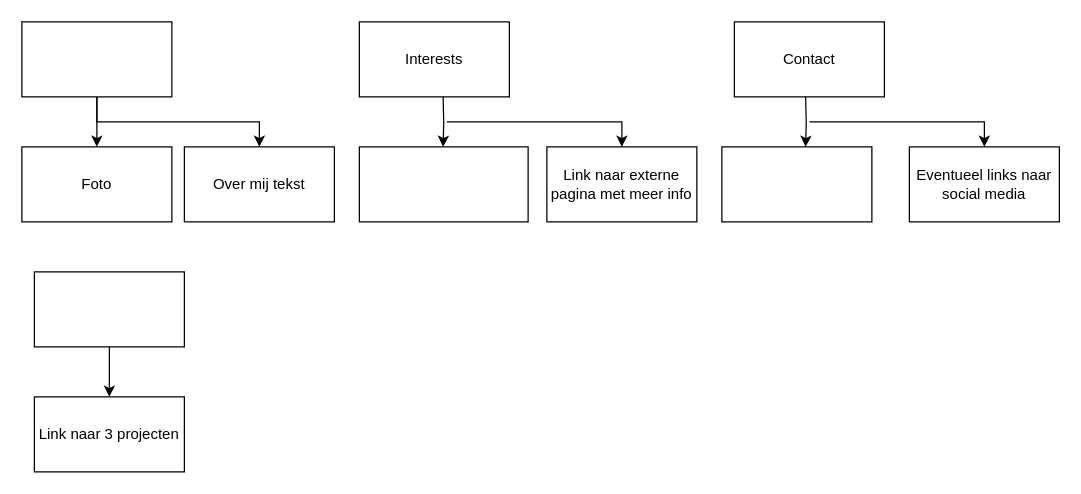
Image size: 1081x494. Some labels were removed from this diagram. The box of each missing label's shape, as (x1, y1, x2, y2) in pixels:
About: (21, 21, 172, 97)
E-mail adres: (721, 146, 872, 222)
Projects: (33, 271, 184, 347)
Tekst over hobby's en intresses: (358, 146, 528, 222)
